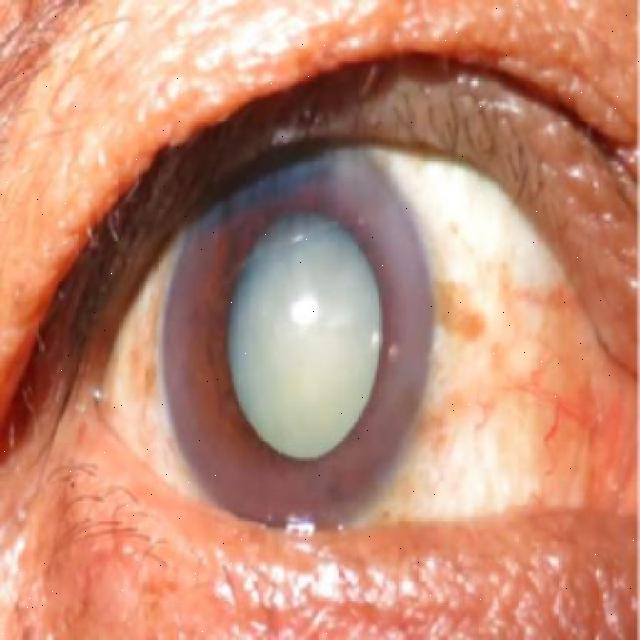Cataract: (156, 129, 442, 550)
